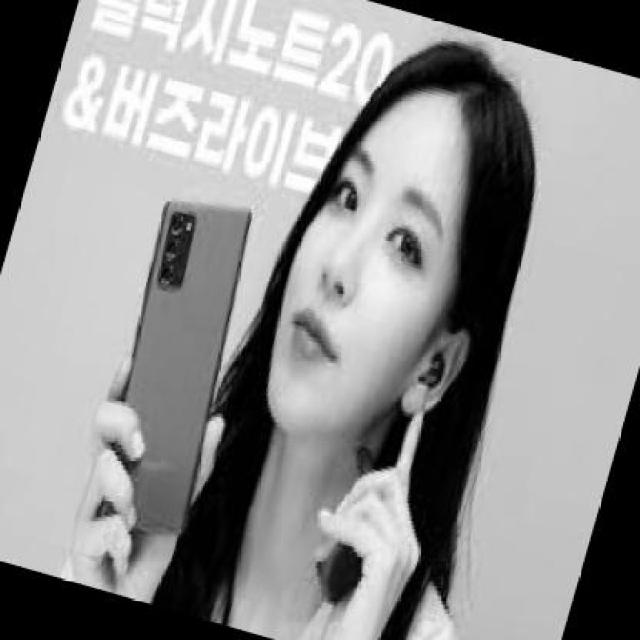earphone: (407, 347, 464, 395)
smart phone: (139, 189, 252, 547)
